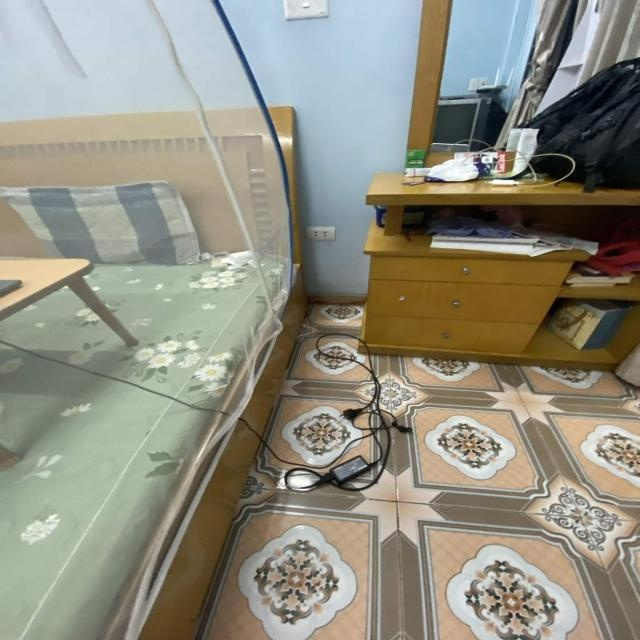outlet: (306, 226, 336, 241)
